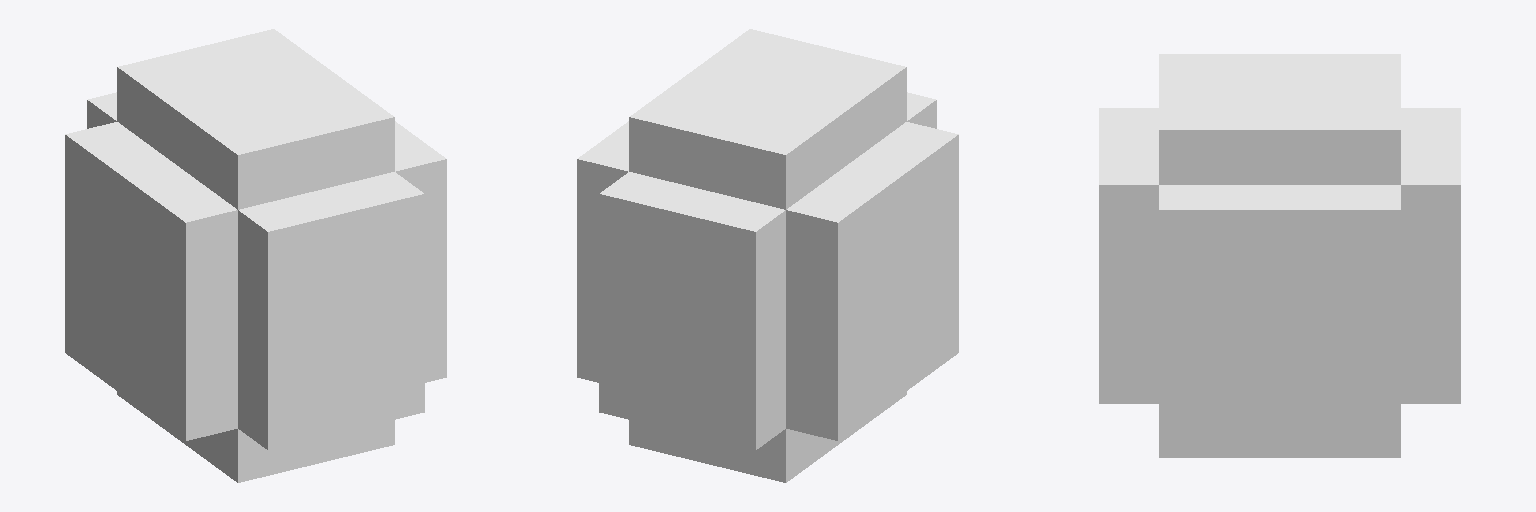
File: bombeman-2-handl.obj
3 renders of one model, left to right at view 1: azimuth 30°, elevation 25°; view 2: azimuth 150°, elevation 25°; view 3: azimuth 270°, elevation 25°, orthographic.
Parts seen in each view (by area): view 1: handl; view 2: handl; view 3: handl.
Boxes of the visible parts, x1=… form: handl: x1=65, y1=29, x2=446, y2=482; handl: x1=577, y1=29, x2=958, y2=482; handl: x1=1099, y1=54, x2=1460, y2=457.
Bounding box in the file's own units: 0.5 × 0.6 × 0.6.